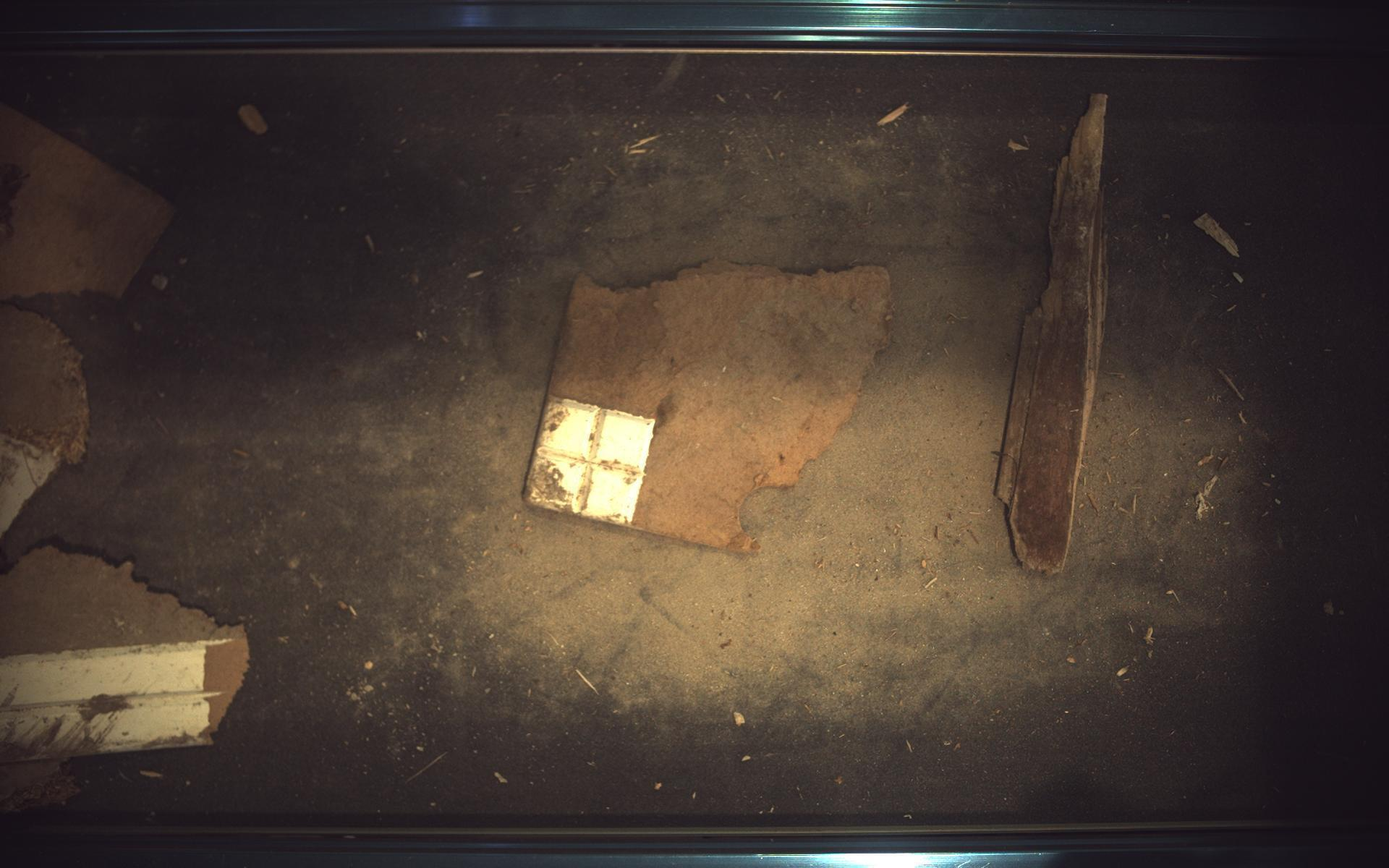wood: (526, 261, 892, 552), (1, 547, 247, 812), (998, 93, 1110, 574), (1, 103, 172, 299), (1, 305, 88, 535)
